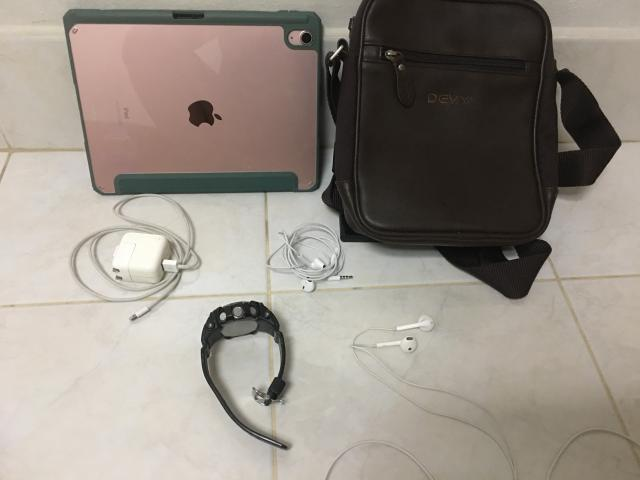Watch: (201, 301, 286, 449)
wire: (350, 314, 518, 479), (69, 194, 201, 320), (266, 222, 350, 292)
